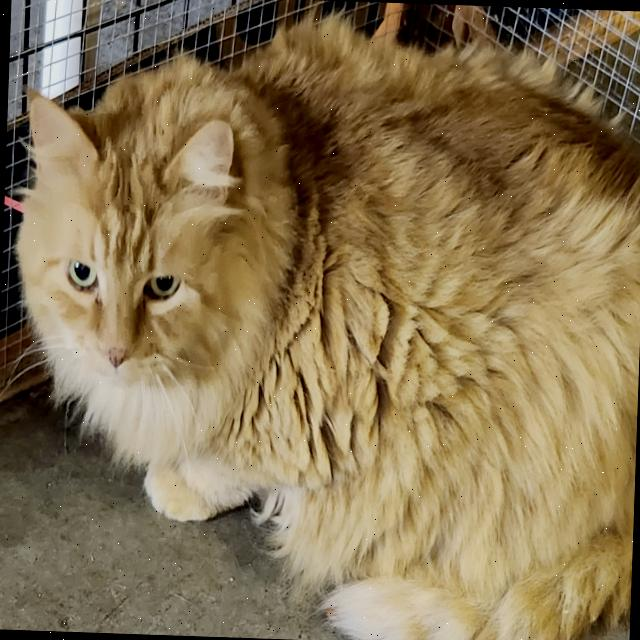domestic_long_hair_cat: (5, 58, 282, 408)
